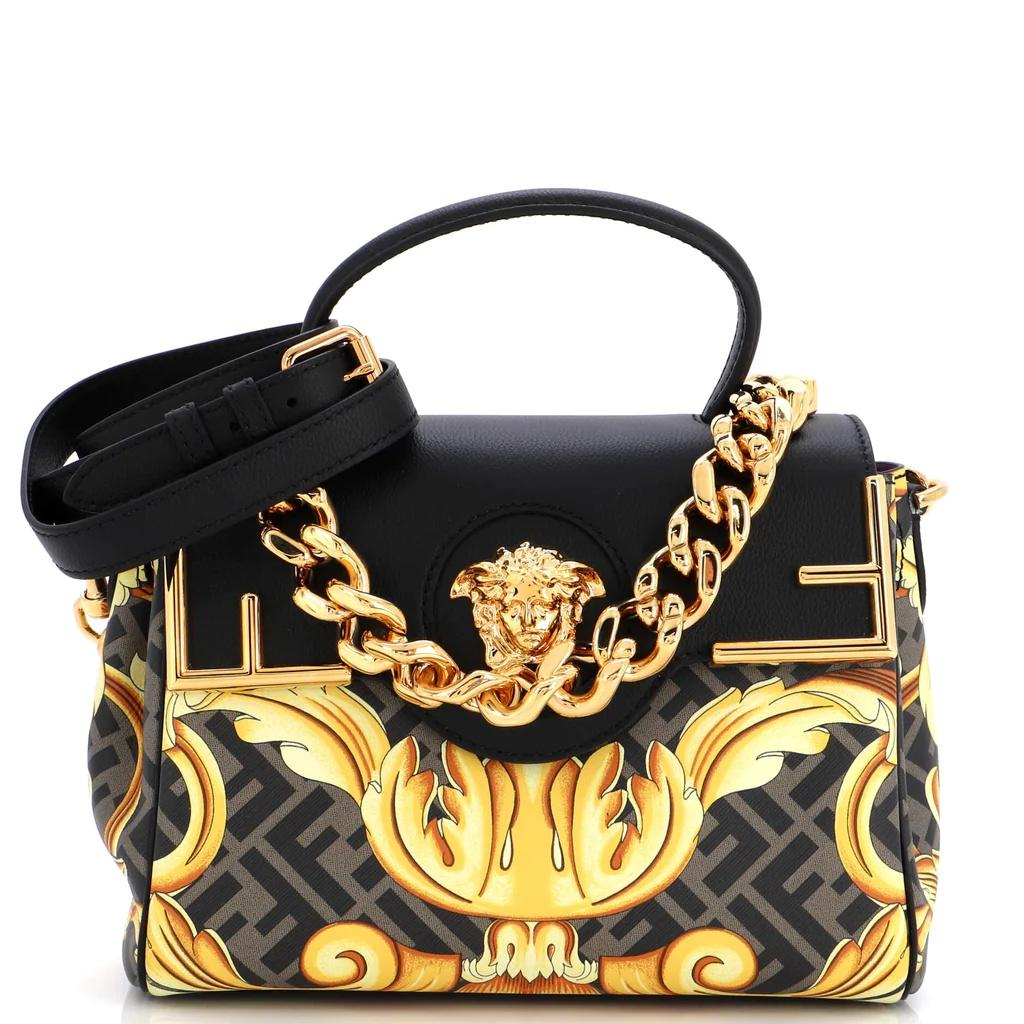VERSACE: (422, 506, 629, 683)
